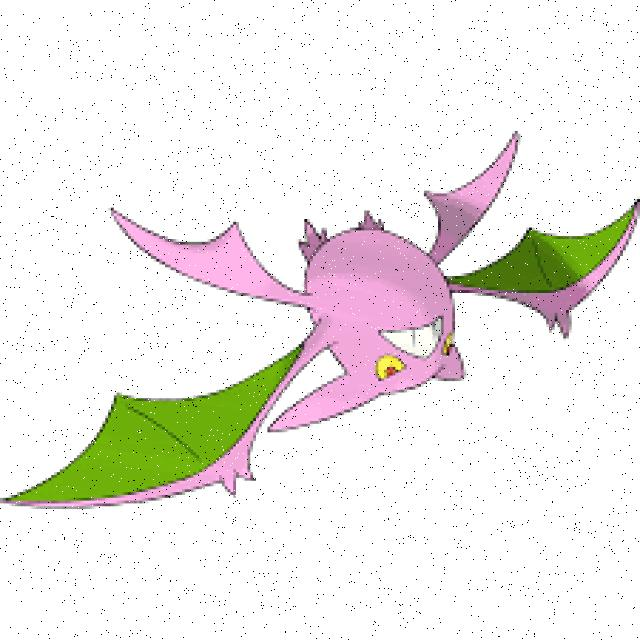crobat: (0, 128, 640, 514)
